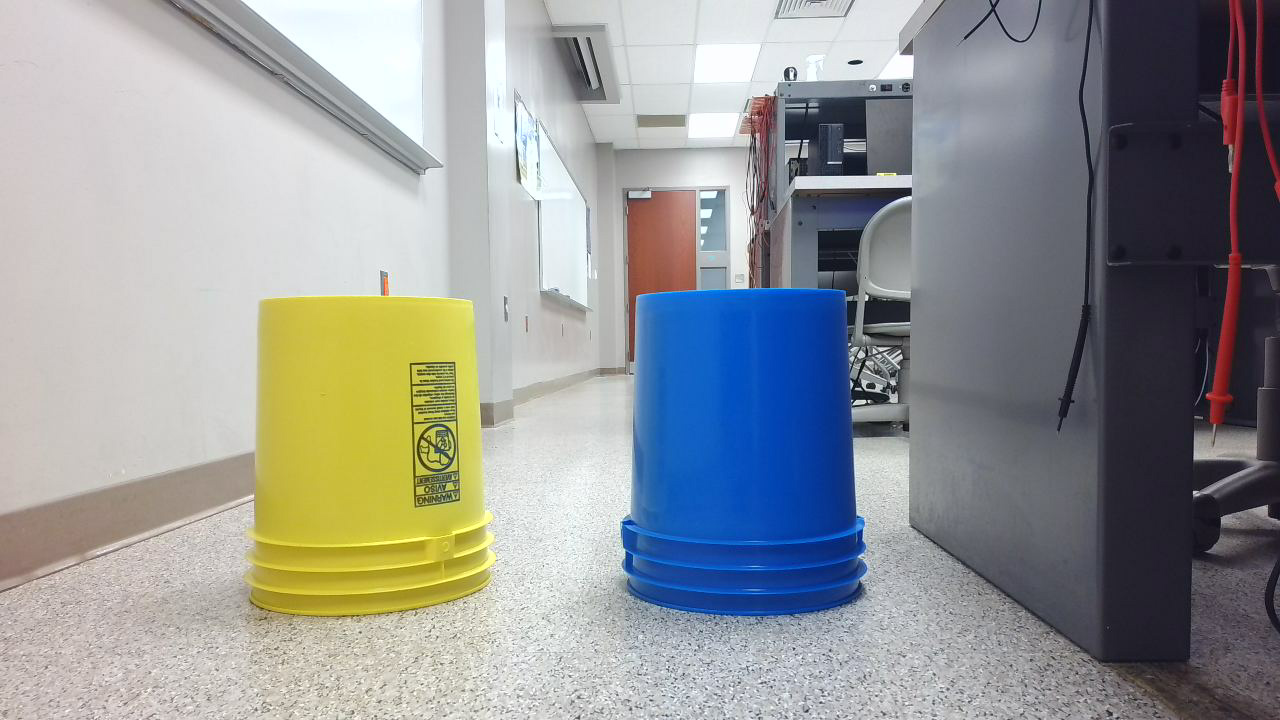blue_bucket: (621, 287, 880, 625)
yellow_bucket: (243, 295, 506, 628)
